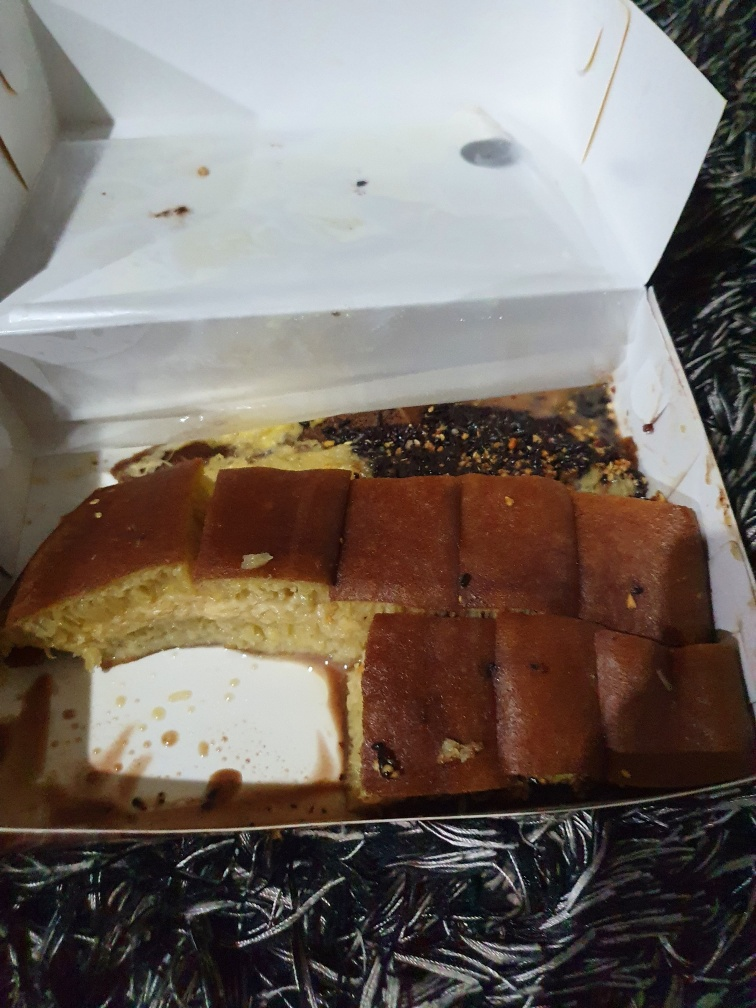martabak manis: (11, 462, 212, 667), (333, 606, 496, 795), (200, 461, 342, 667), (589, 619, 753, 789), (572, 474, 717, 646), (481, 604, 601, 787), (341, 477, 470, 628), (452, 471, 580, 614)
